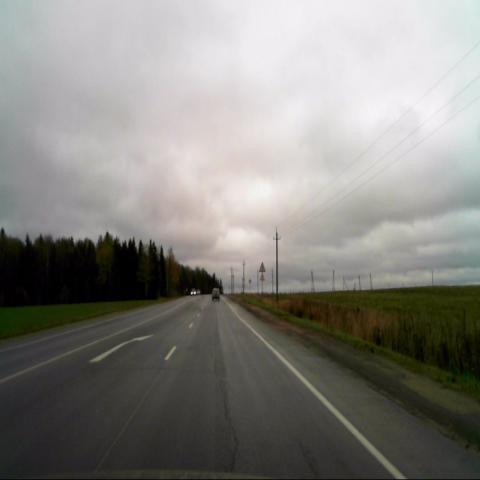1_11_1: (258, 260, 266, 272)
